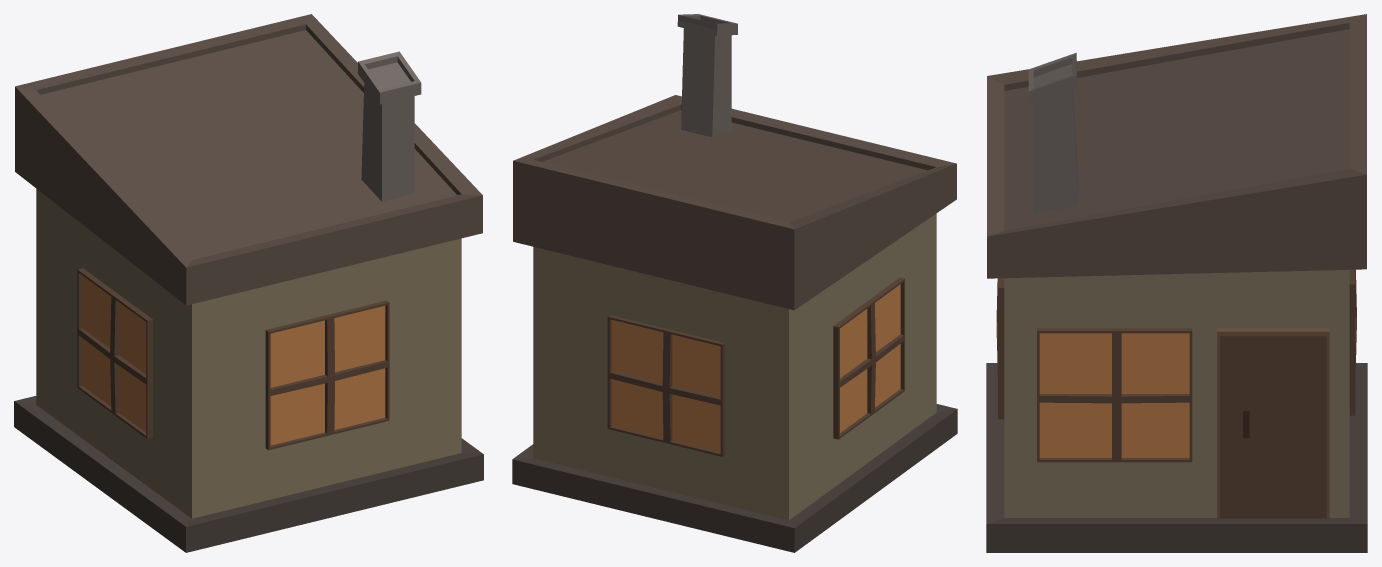
The picture shows the model from 3 angles, left to right: view 1: azimuth 30°, elevation 25°; view 2: azimuth 150°, elevation 25°; view 3: azimuth 270°, elevation 25°; orthographic projection. The views are drawn at different scales.
Parts seen in each view (by area): view 1: pCube1, pasted__pCube4, pasted__pasted__pCube4, pCube5; view 2: pCube1, pasted__pCube4, pasted__pasted__pCube4, pCube5; view 3: pCube1, pCube2, pCube4, pCube5, pasted__pCube4 (×2).
Part boxes in pixels (<box>): pCube1: <box>14,14,483,552</box>; pasted__pCube4: <box>265,300,389,450</box>; pasted__pasted__pCube4: <box>77,268,152,438</box>; pCube5: <box>358,51,421,201</box>; pCube1: <box>512,95,957,552</box>; pasted__pCube4: <box>607,315,725,456</box>; pasted__pasted__pCube4: <box>833,277,904,439</box>; pCube5: <box>677,14,737,137</box>; pCube1: <box>986,14,1367,552</box>; pCube2: <box>1217,328,1329,520</box>; pCube4: <box>1037,328,1192,462</box>; pCube5: <box>1028,52,1078,213</box>; pasted__pCube4 (×2): <box>996,269,1356,419</box>.
Size of the model in its own units: 113 by 149 by 113.
